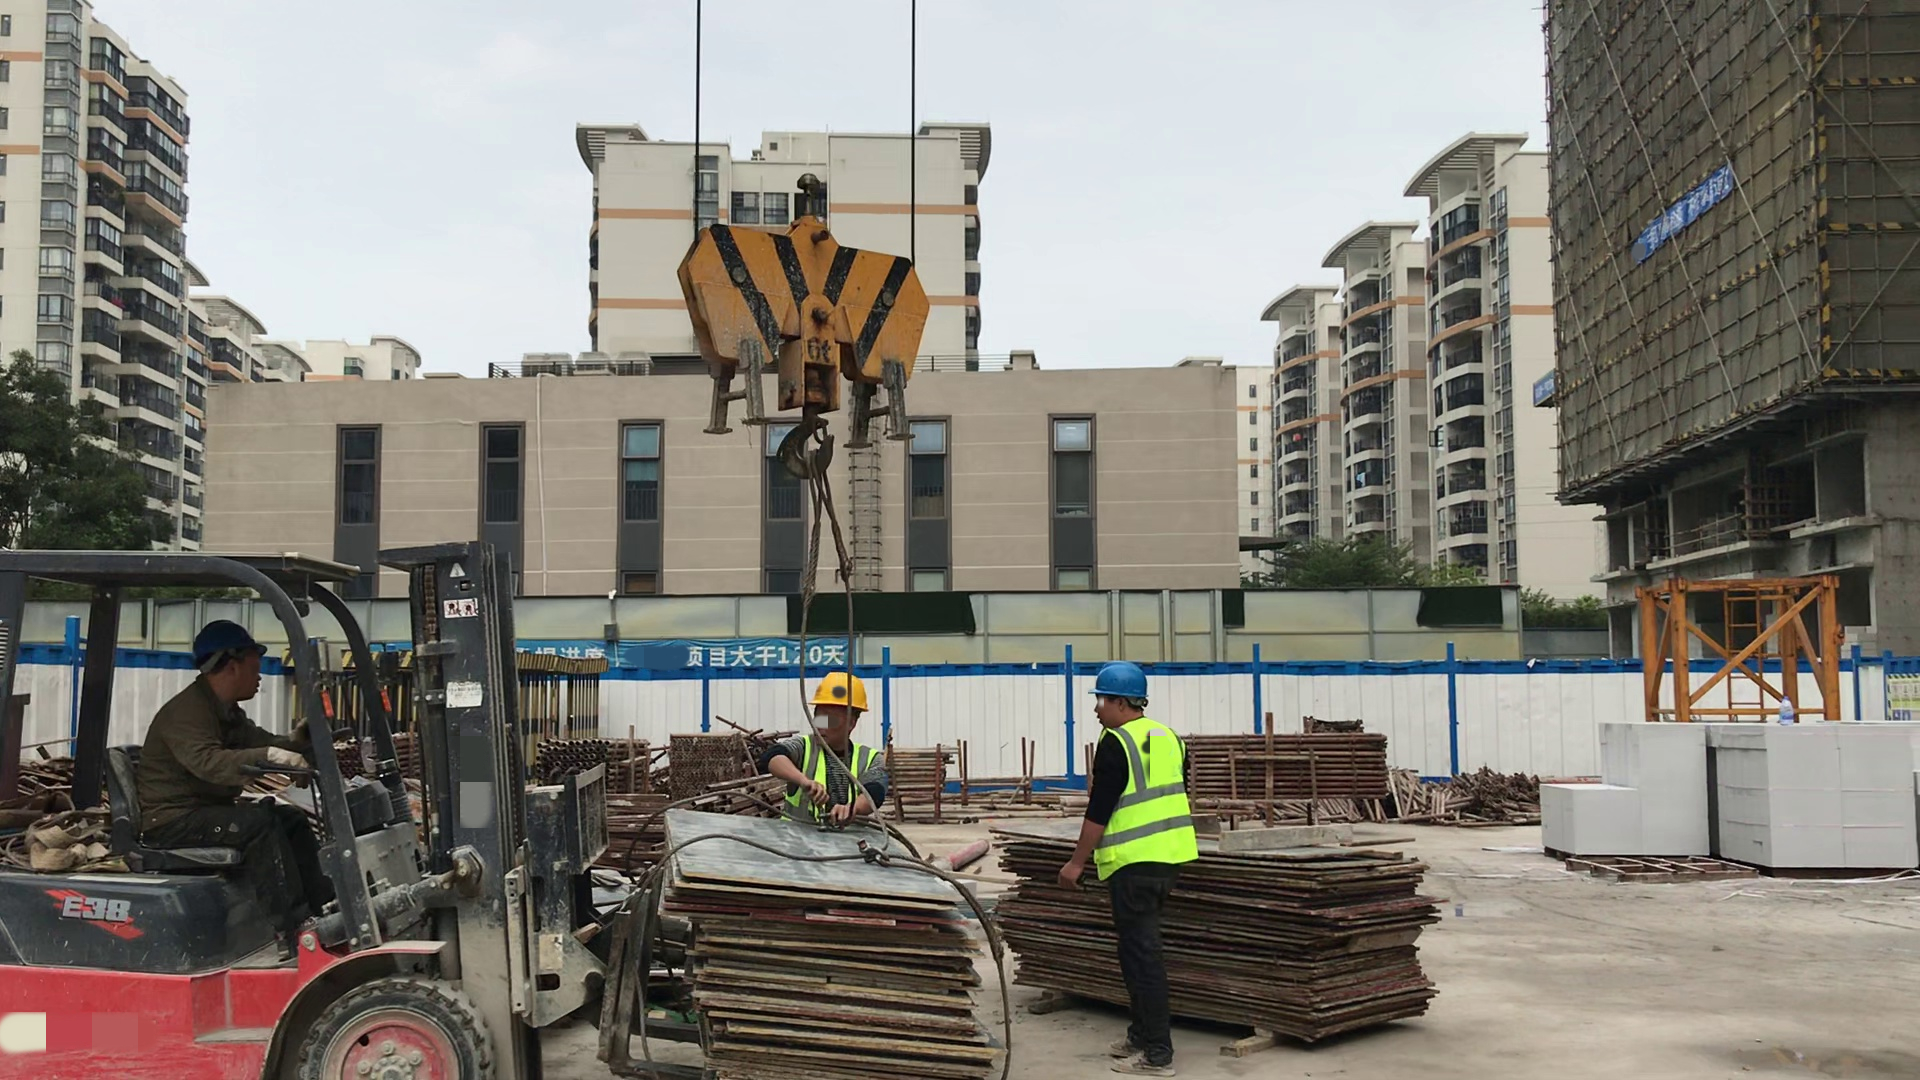board: (660, 807, 1011, 1076), (1005, 835, 1446, 1038)
brick: (1715, 708, 1920, 864), (1541, 716, 1715, 867)
helmet: (178, 606, 275, 672), (1077, 656, 1160, 705), (804, 663, 878, 709)
hook: (698, 146, 955, 449)
person: (99, 606, 344, 937), (1036, 650, 1212, 1068), (762, 663, 914, 839)
scaffold: (1190, 719, 1385, 807), (548, 733, 650, 787)
slogan: (1638, 170, 1739, 261)
vest: (1078, 728, 1197, 864), (779, 737, 881, 819)
